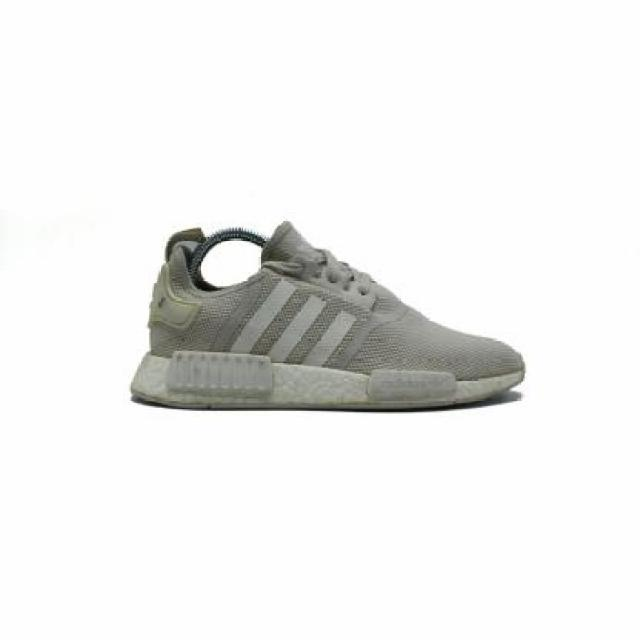Adidas: (229, 276, 364, 383)
